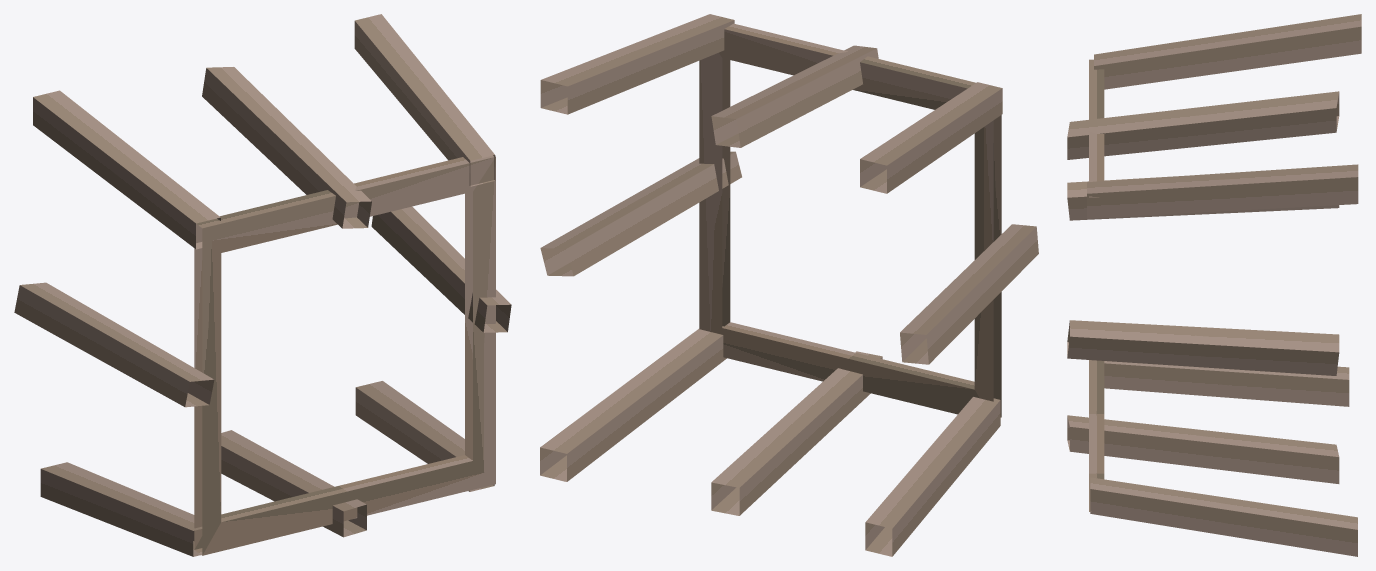
File: 246_radiotower_003.gltf
The picture shows the model from 3 angles, left to right: view 1: azimuth 30°, elevation 25°; view 2: azimuth 150°, elevation 25°; view 3: azimuth 270°, elevation 25°; orthographic projection. The views are drawn at different scales.
Parts seen in each view (by area): view 1: radiotower_003; view 2: radiotower_003; view 3: radiotower_003.
Part boxes in pixels (bbox=[...]): radiotower_003: bbox=[14, 14, 511, 556]; radiotower_003: bbox=[540, 14, 1038, 556]; radiotower_003: bbox=[1067, 14, 1361, 556].
Size of the model in its own units: 7.15 by 7.02 by 4.9.
Materials: 1 (1 with a texture image).
